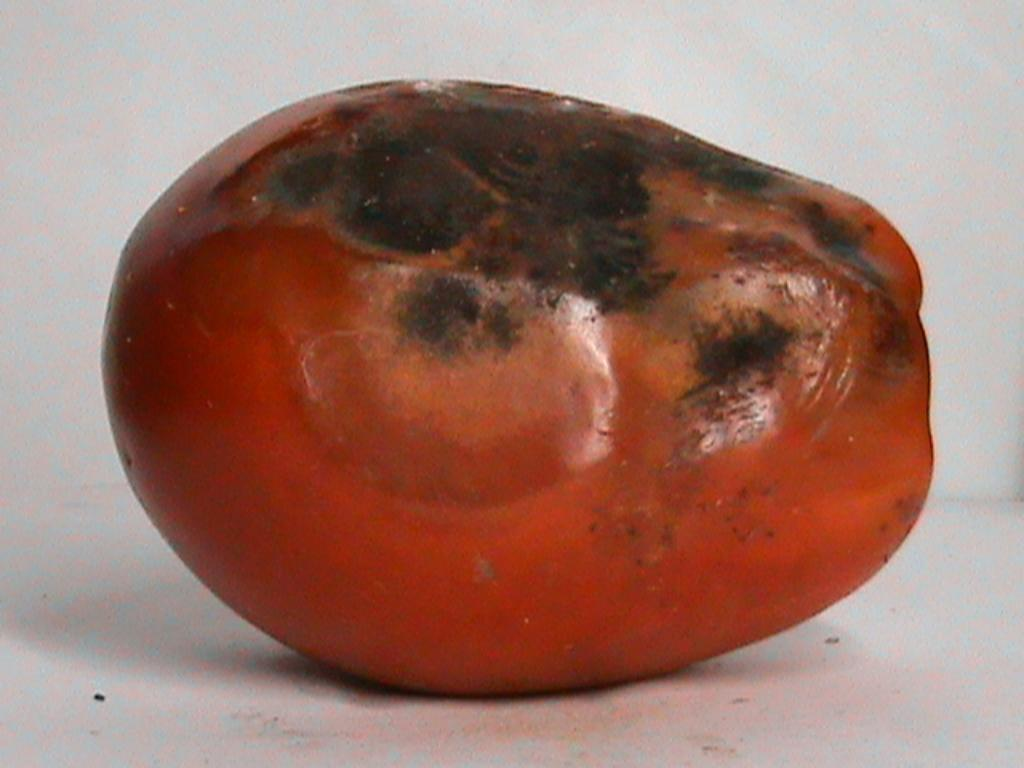bruise_discoloration: (301, 262, 850, 498)
rot_mold_decay: (265, 81, 911, 368), (674, 304, 797, 400)
tomato: (104, 82, 928, 691)
